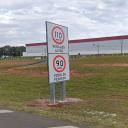speed_limit_110: (50, 26, 66, 44)
